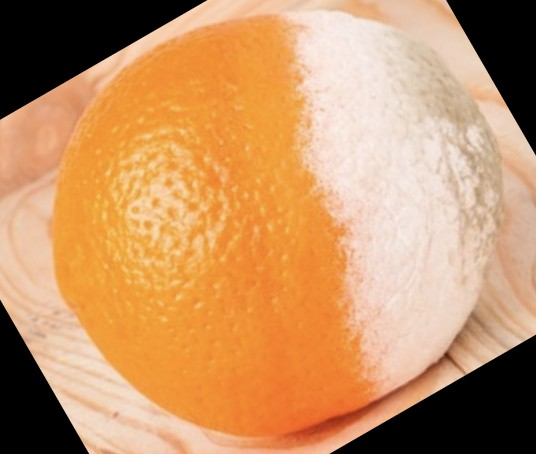rotten_orange: (50, 10, 500, 435)
